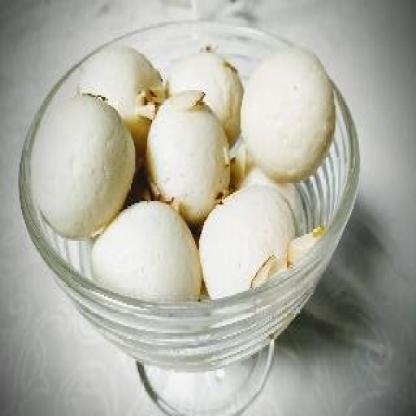rasgulla: (32, 99, 136, 239), (240, 49, 334, 181), (93, 202, 203, 307), (199, 182, 295, 302), (146, 91, 230, 222), (78, 45, 164, 149), (166, 50, 243, 148)
